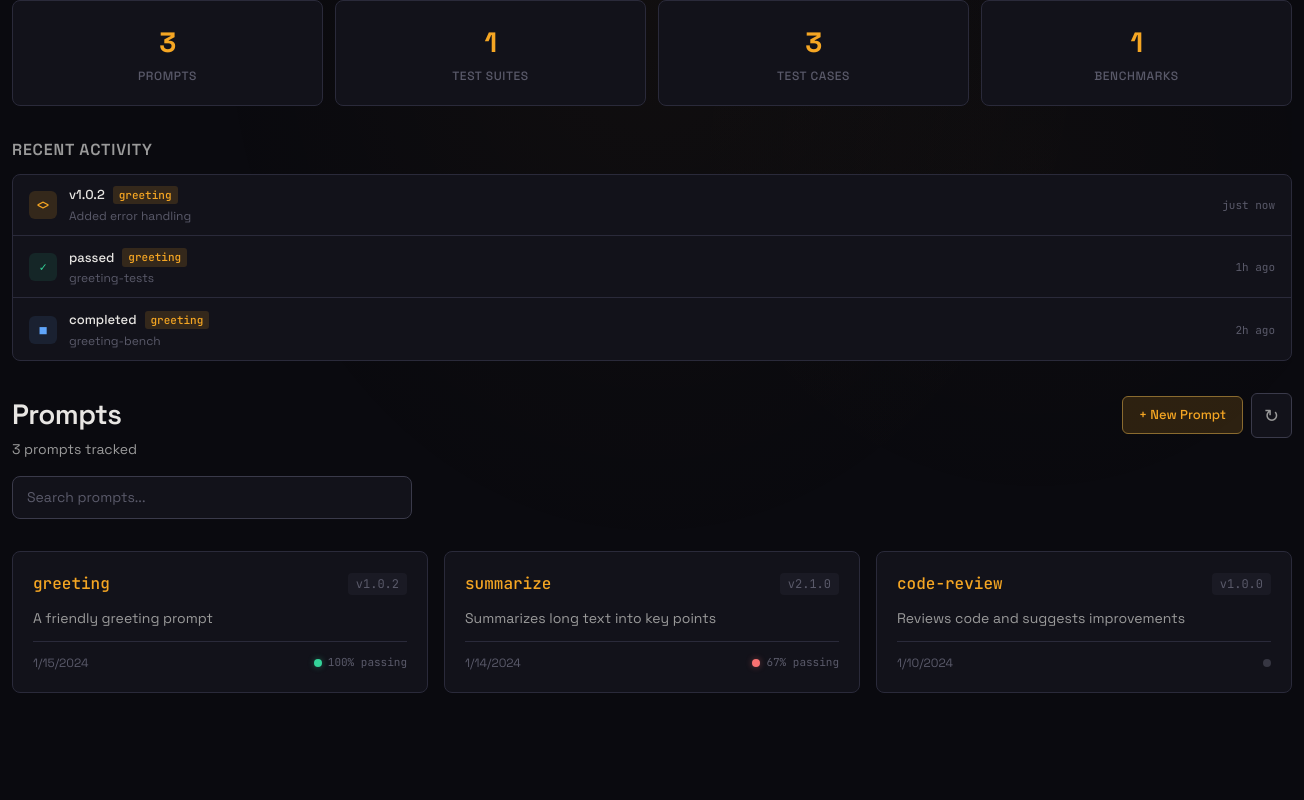
Scenario: HomePage › shows no results message when search has no matches
The width and height of the screenshot is (1304, 800).
Type "nonexistent" into the field with placeholder "Search prompts..." at (212, 497), box [12,476,412,518]
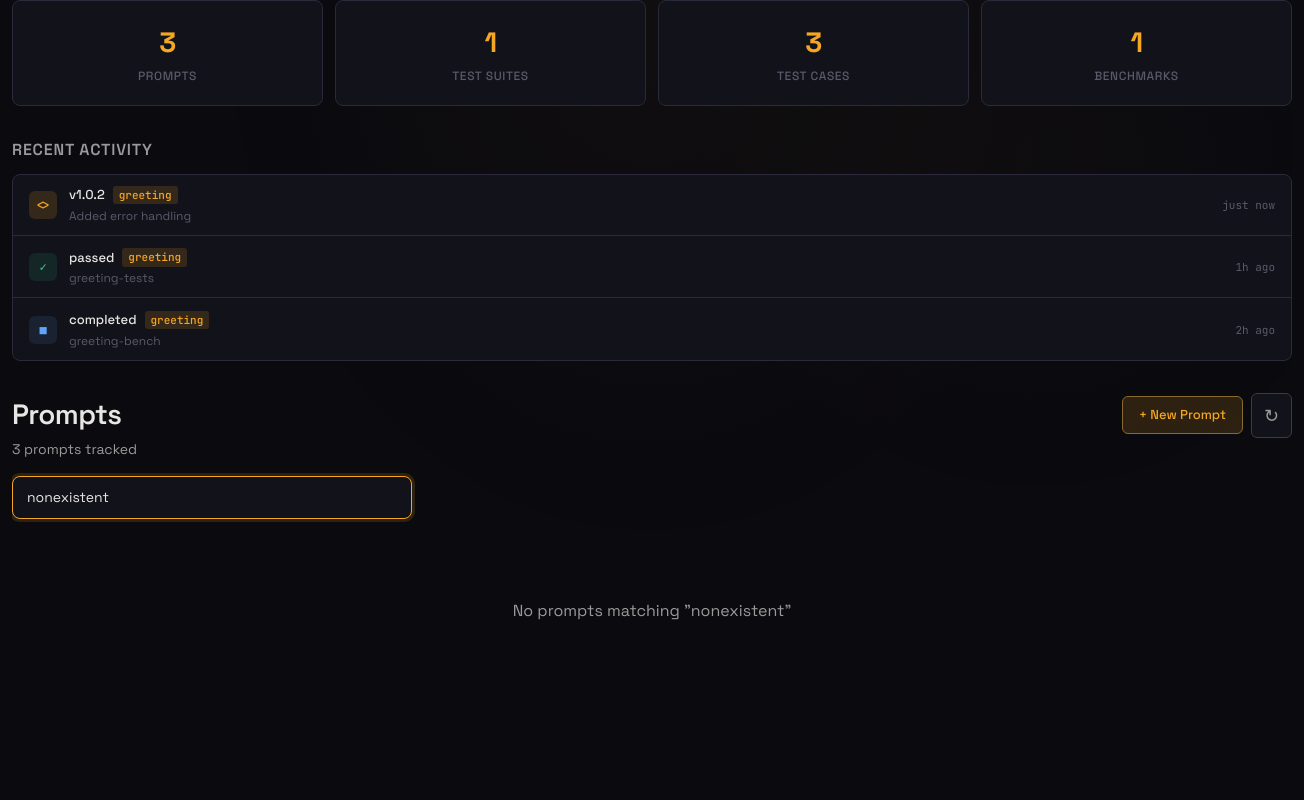
Check: the text "No prompts matching \"nonexistent\"" is shown, box [513,598,791,622]
